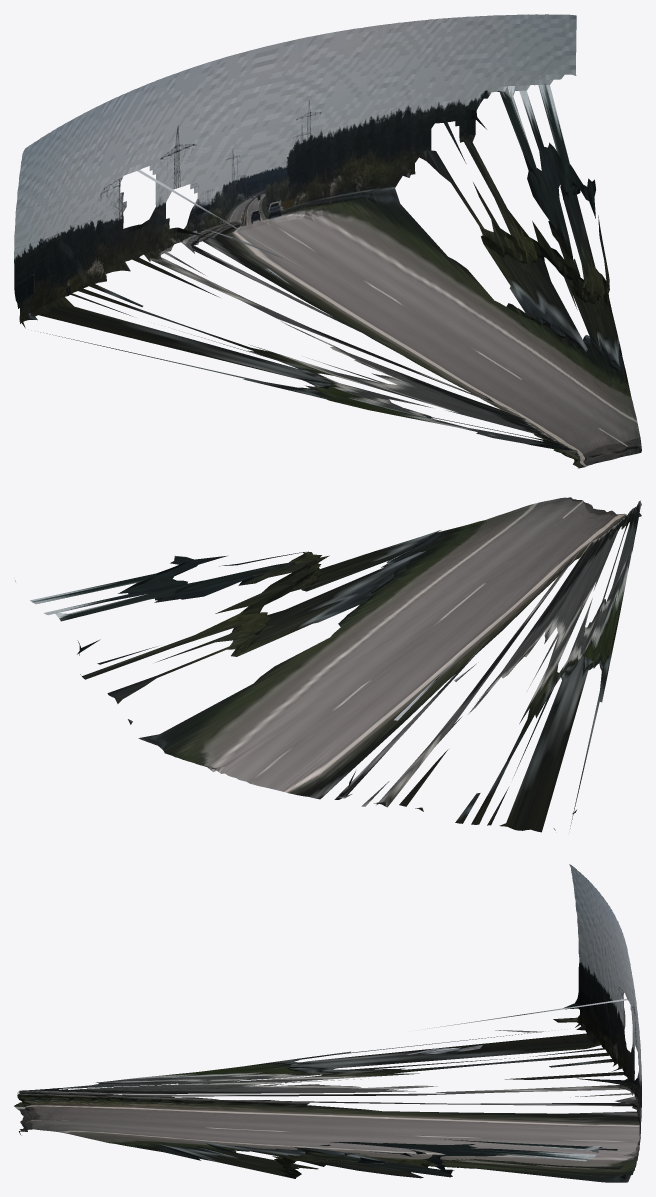
3 views of the same model, one above another, from view 1: azimuth 30°, elevation 25°; view 2: azimuth 150°, elevation 25°; view 3: azimuth 270°, elevation 25° (orthographic). The views are drawn at different scales.
Visible parts, largest first — view 1: defaultobject; view 2: defaultobject; view 3: defaultobject.
Part boxes in pixels (<box>): defaultobject: <box>14,14,641,468</box>; defaultobject: <box>15,497,641,832</box>; defaultobject: <box>14,864,641,1182</box>.
Bounding box in the file's own units: 41.06 × 13.55 × 44.72.
Materials: 1 (1 with a texture image).
